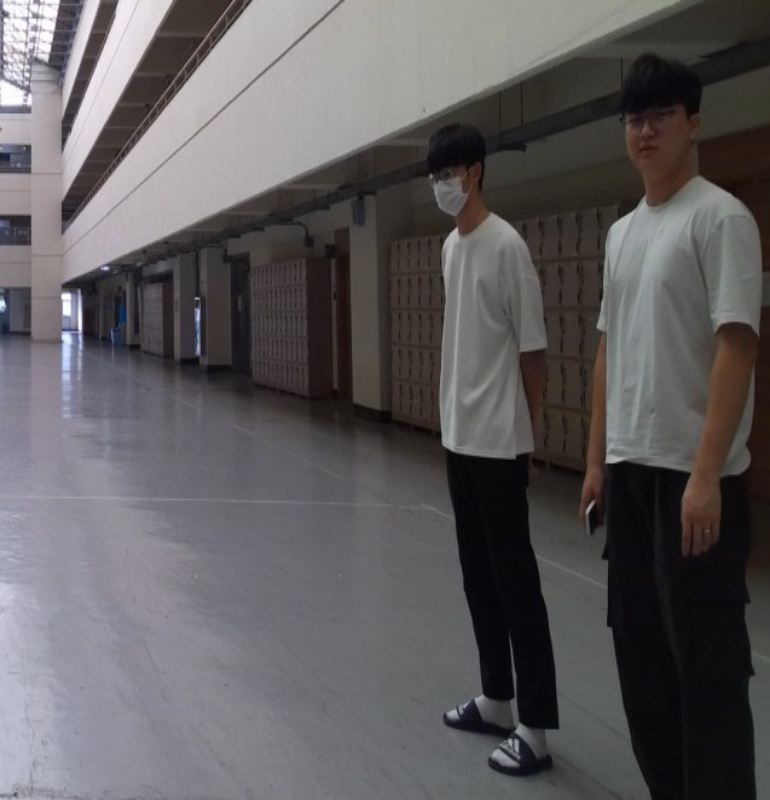person: (422, 120, 561, 784)
